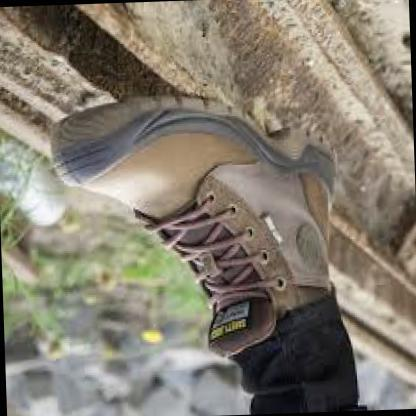safety-shoe: (29, 75, 351, 361)
